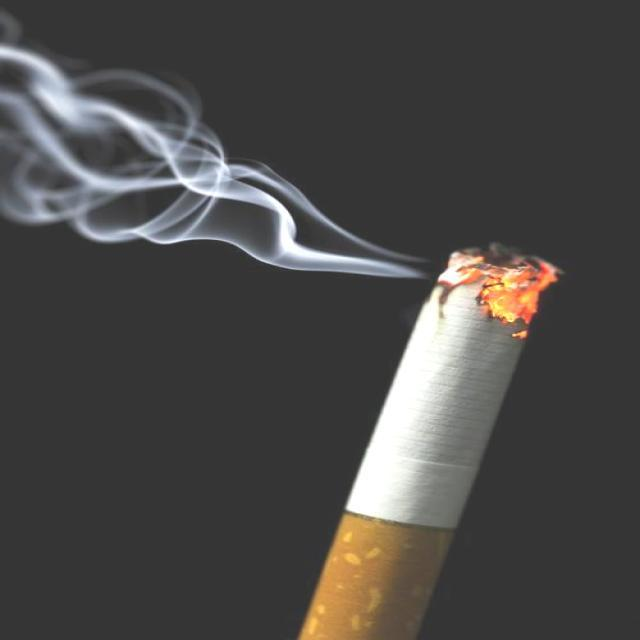cigarette: (293, 235, 576, 640)
